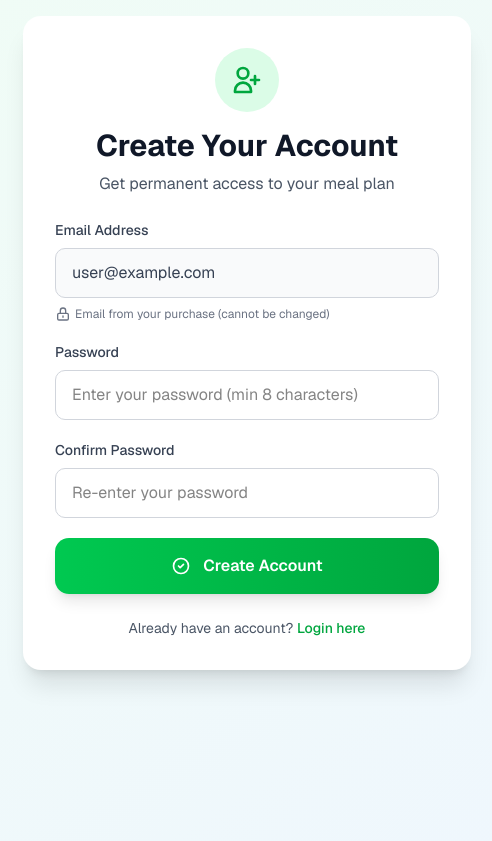
CreateAccountPage › Form Submission › should handle email already exists error
In the password field labelled "Password": [247, 395] box [55,370,439,420], type "ValidPassword123!"
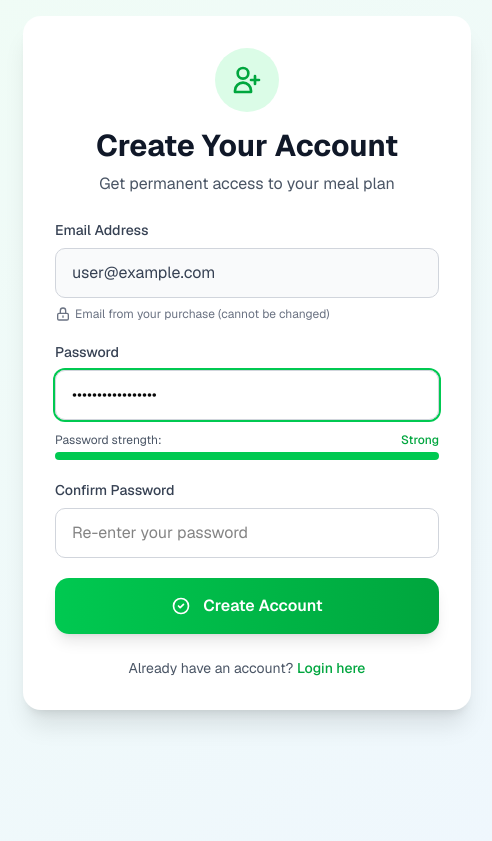
In the password field labelled "Confirm Password": [247, 533] box [55,508,439,558], type "ValidPassword123!"
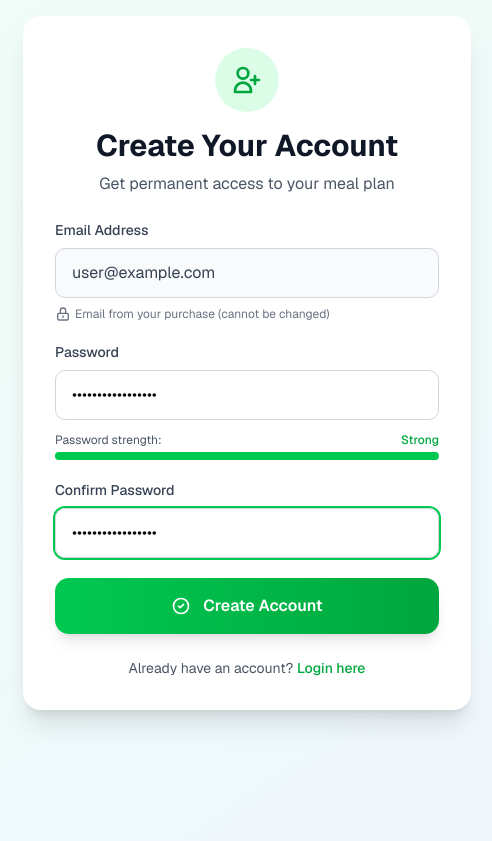
Click the button "Create Account": [247, 606] box [55,578,439,634]
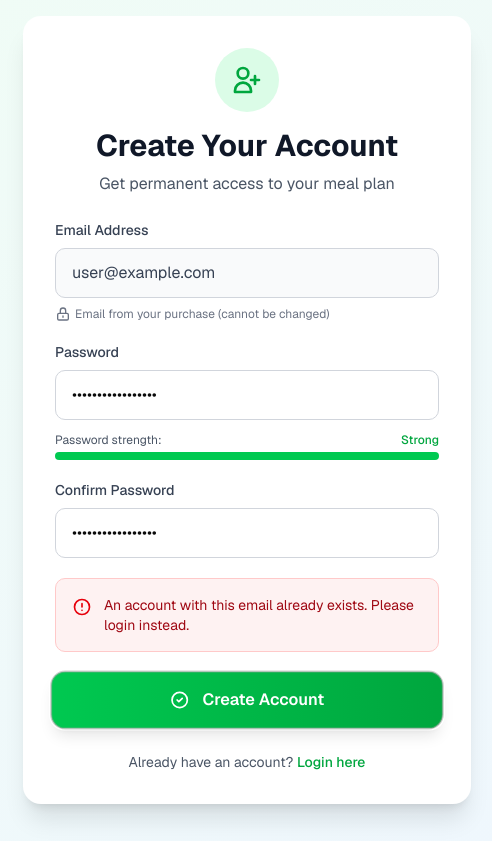
Expected: the text "An account with this email already exists" is shown, [104,596,414,634]
